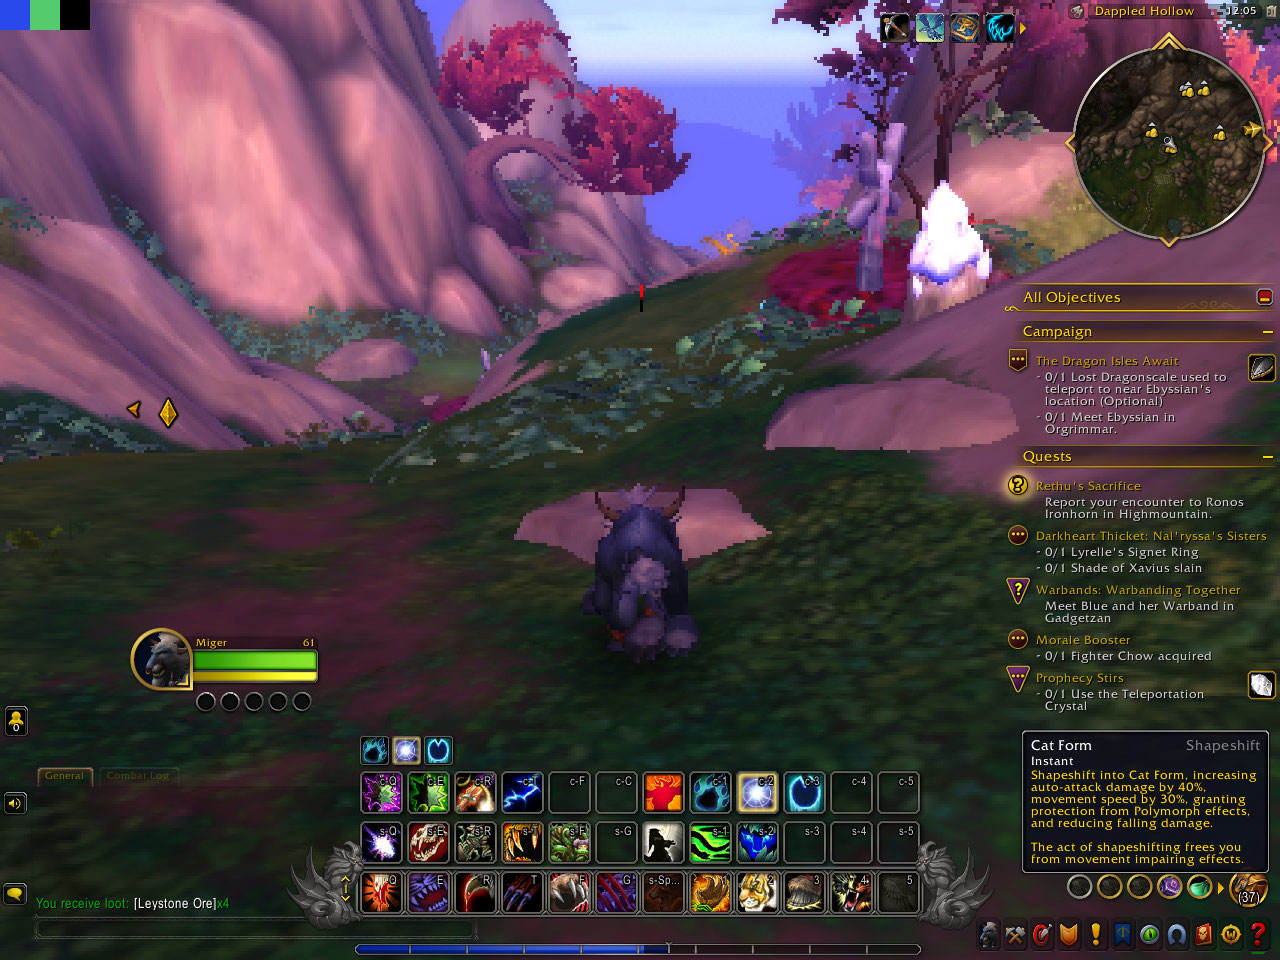ore: (902, 179, 992, 320)
